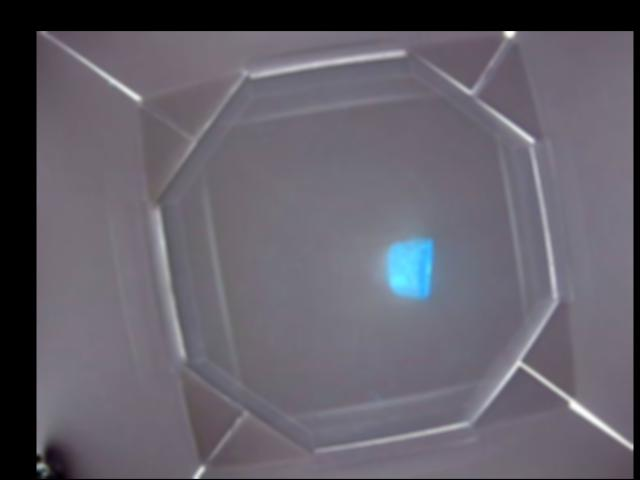Carrot: (388, 239, 434, 298)
